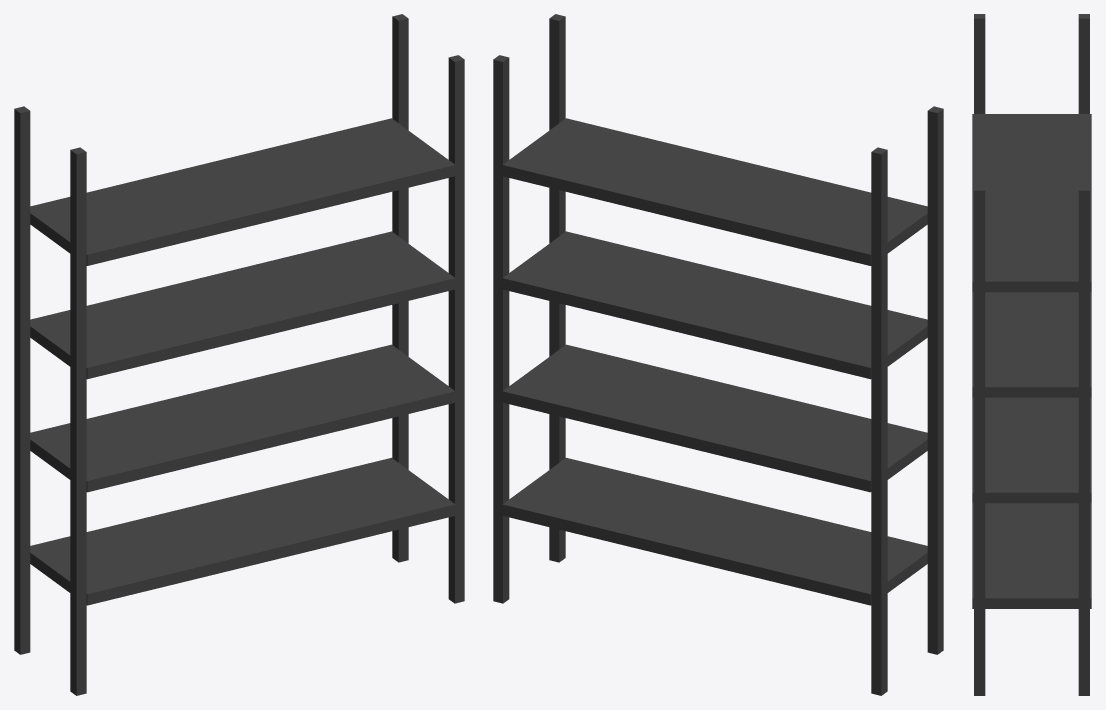
Rendered from LP_Shelf.fbx.
The picture shows the model from 3 angles, left to right: view 1: azimuth 30°, elevation 25°; view 2: azimuth 150°, elevation 25°; view 3: azimuth 270°, elevation 25°; orthographic projection. The views are drawn at different scales.
Visible parts, largest first — view 1: LP_Shelf; view 2: LP_Shelf; view 3: LP_Shelf.
Boxes of the visible parts, box(x1,y1,x2,y2) form: LP_Shelf: box(14, 14, 464, 695); LP_Shelf: box(493, 14, 943, 695); LP_Shelf: box(972, 14, 1091, 695).
Bounding box in the file's own units: 1.96 × 2.61 × 0.5585.
